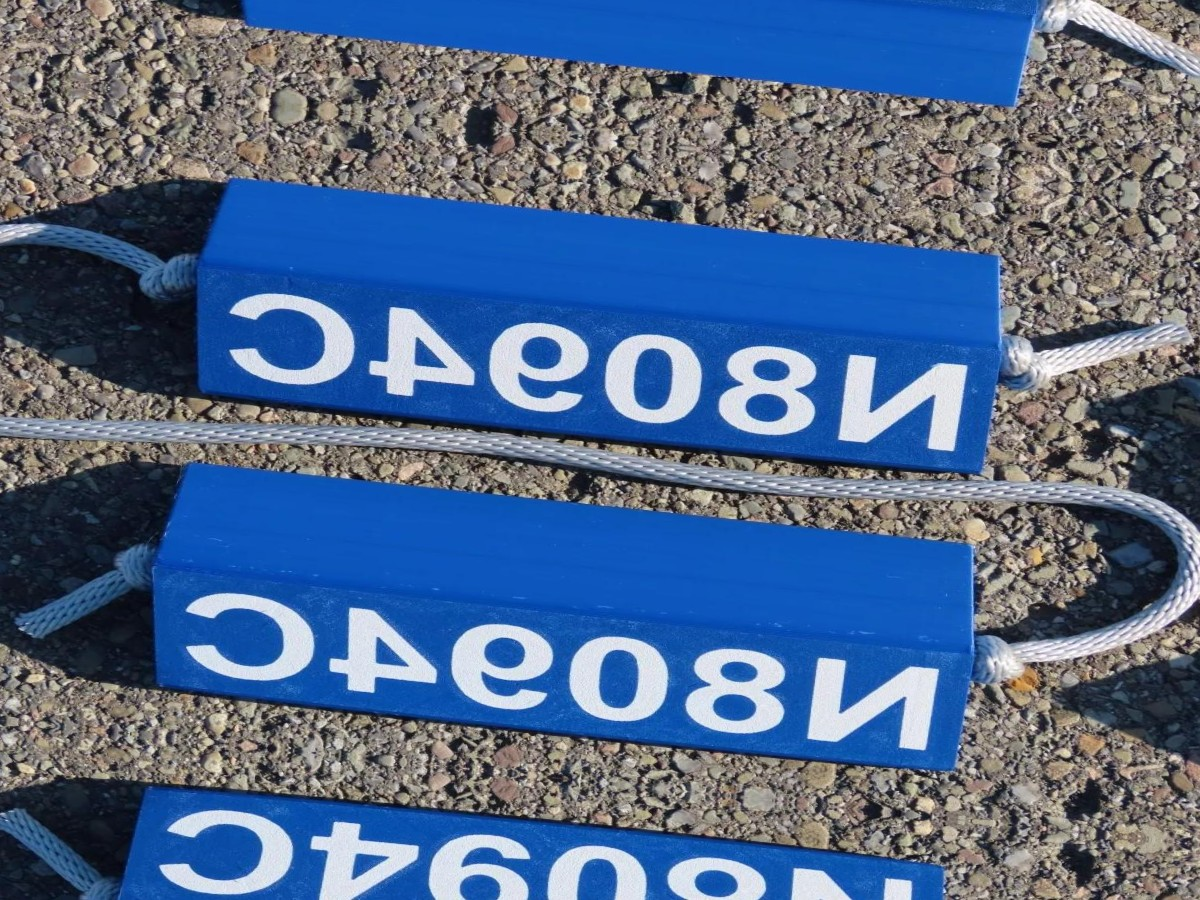chock: (142, 452, 991, 777), (190, 167, 1018, 480), (108, 778, 957, 900), (228, 0, 1055, 116)
